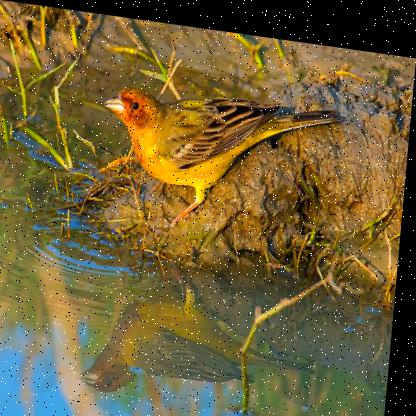Burung: (97, 74, 336, 236)
